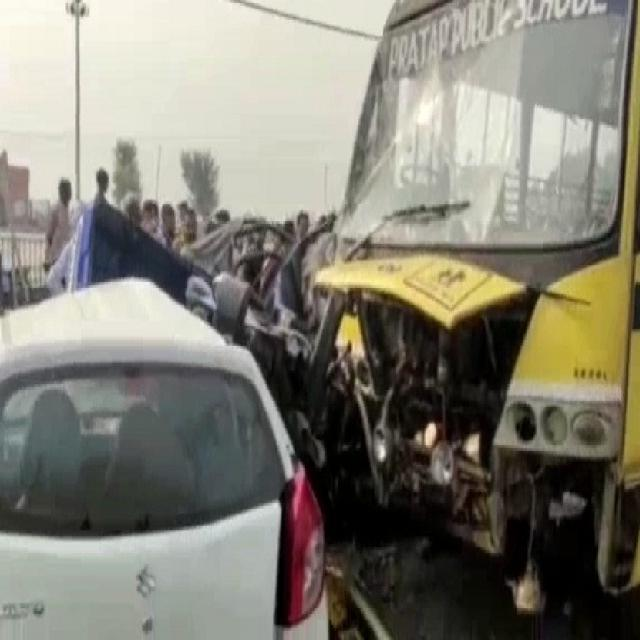accident: (248, 1, 640, 614)
